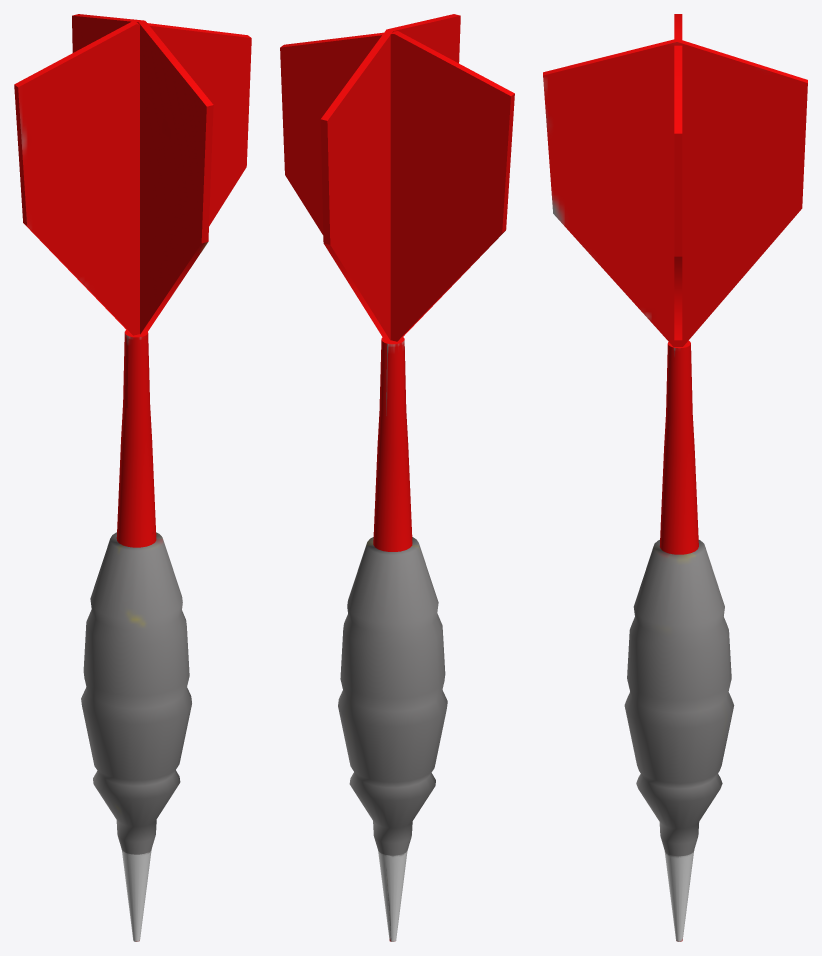
File: Dart.obj
3 views of the same model, side by side, from view 1: azimuth 30°, elevation 25°; view 2: azimuth 150°, elevation 25°; view 3: azimuth 270°, elevation 25° (orthographic).
Visible parts, largest first — view 1: pCylinder2; view 2: pCylinder2; view 3: pCylinder2.
Part boxes in pixels (bbox=[...]): pCylinder2: bbox=[14, 14, 251, 941]; pCylinder2: bbox=[280, 14, 514, 941]; pCylinder2: bbox=[543, 14, 807, 941].
Bounding box in the file's own units: 0.7348 × 2.76 × 0.7348.
